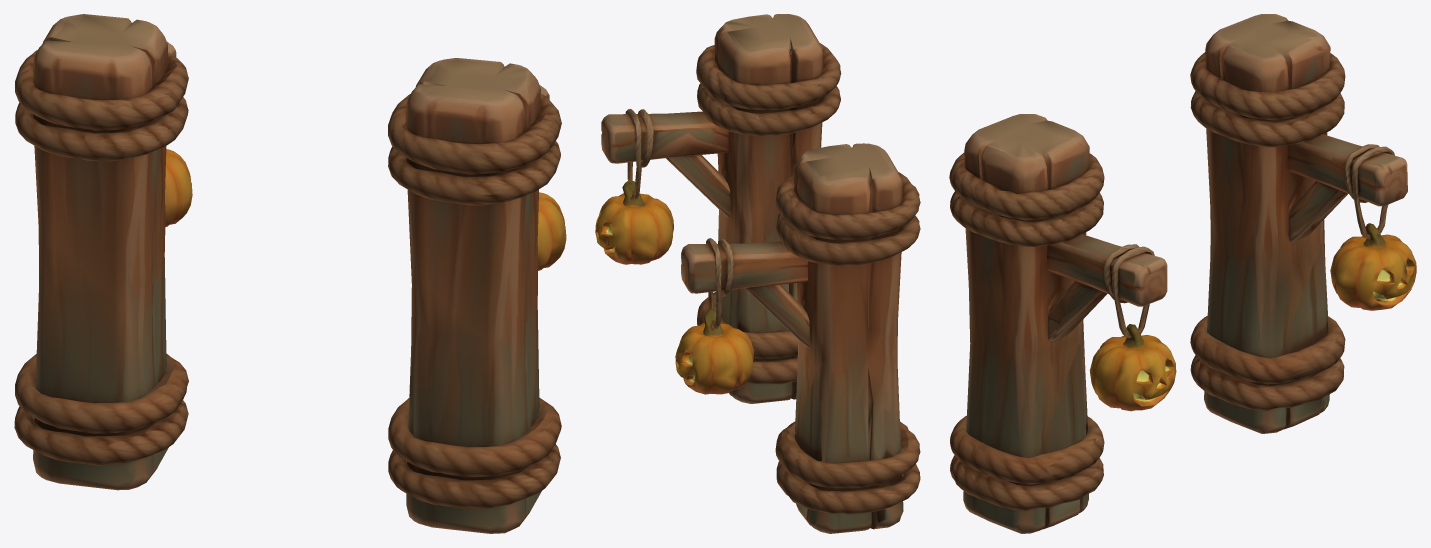
File: L8_RopeBridgePost_LOD0.fbx
3 renders of one model, left to right at view 1: azimuth 30°, elevation 25°; view 2: azimuth 150°, elevation 25°; view 3: azimuth 270°, elevation 25°, orthographic. The views are drawn at different scales.
Visible parts, largest first — view 1: L8_RopeBridgePost_LOD0; view 2: L8_RopeBridgePost_LOD0; view 3: L8_RopeBridgePost_LOD0.
Part boxes in pixels (x1,y1,x2,y2): L8_RopeBridgePost_LOD0: (14, 14, 566, 533); L8_RopeBridgePost_LOD0: (595, 14, 920, 533); L8_RopeBridgePost_LOD0: (949, 14, 1416, 533).
Size of the model in its own units: 1.78 by 1.6 by 1.8.
Materials: 1 (1 with a texture image).
